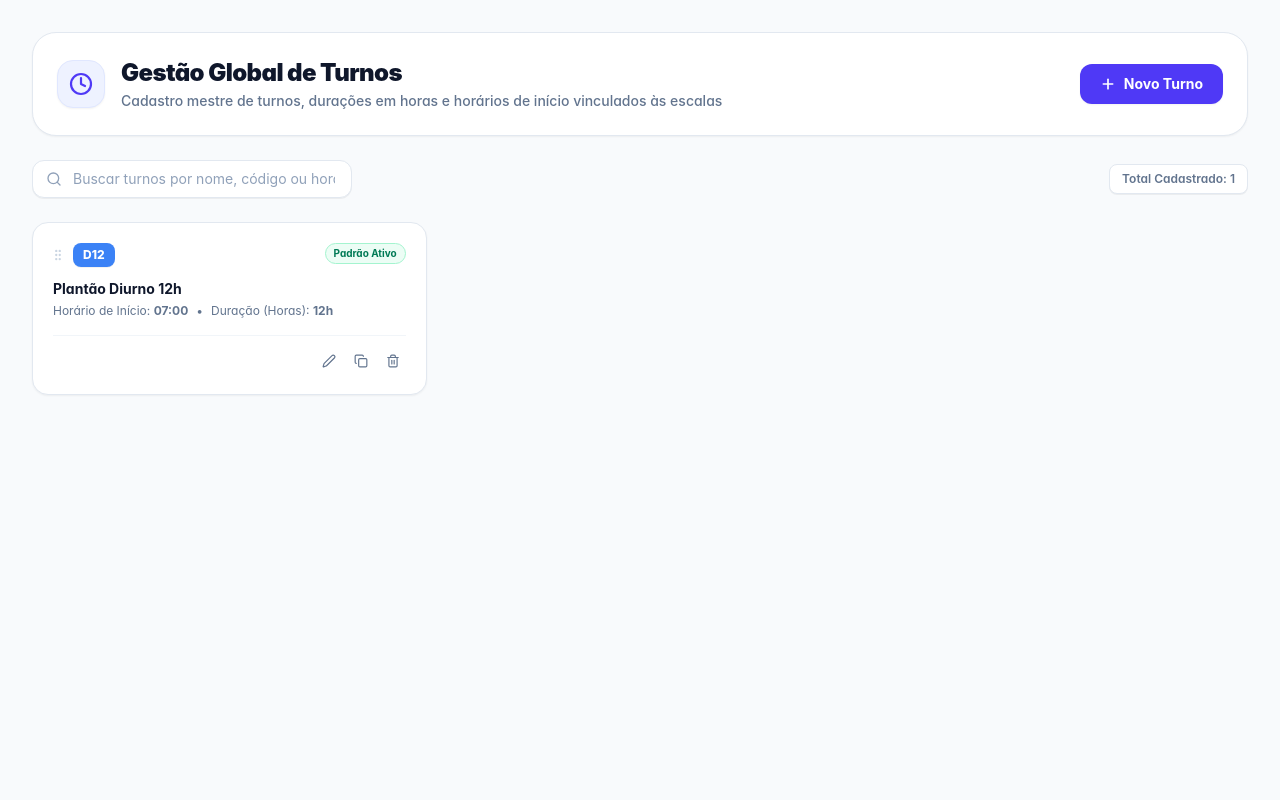
it: ShiftsManagementView › deletes a shift after confirmation
Click the button titled "excluir": [393, 361] box top-left (380, 348), bottom-right (406, 374)
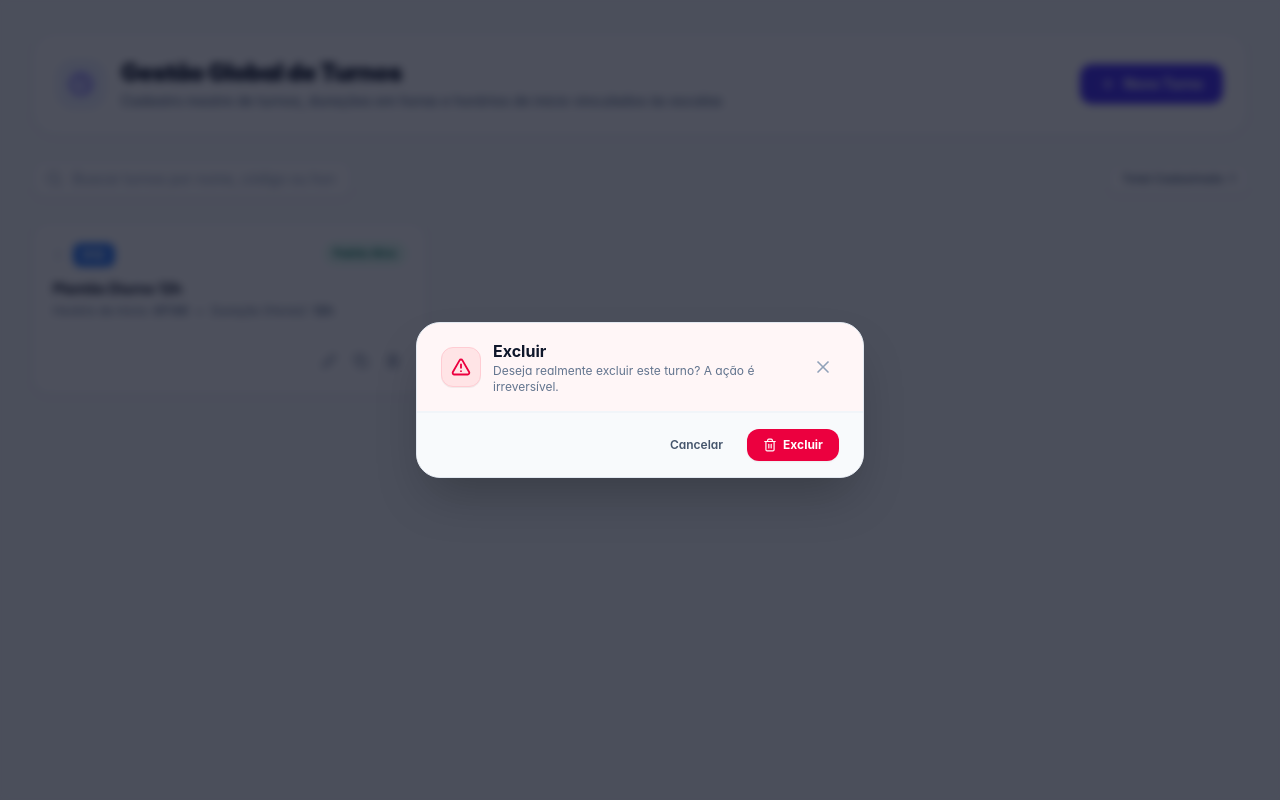
Now the text "Deseja realmente excluir este turno? A ação é irreversível." is shown, box top-left (493, 363), bottom-right (754, 394)
Note: Confirm delete
Click the button "Excluir": [793, 445] box top-left (747, 429), bottom-right (839, 461)
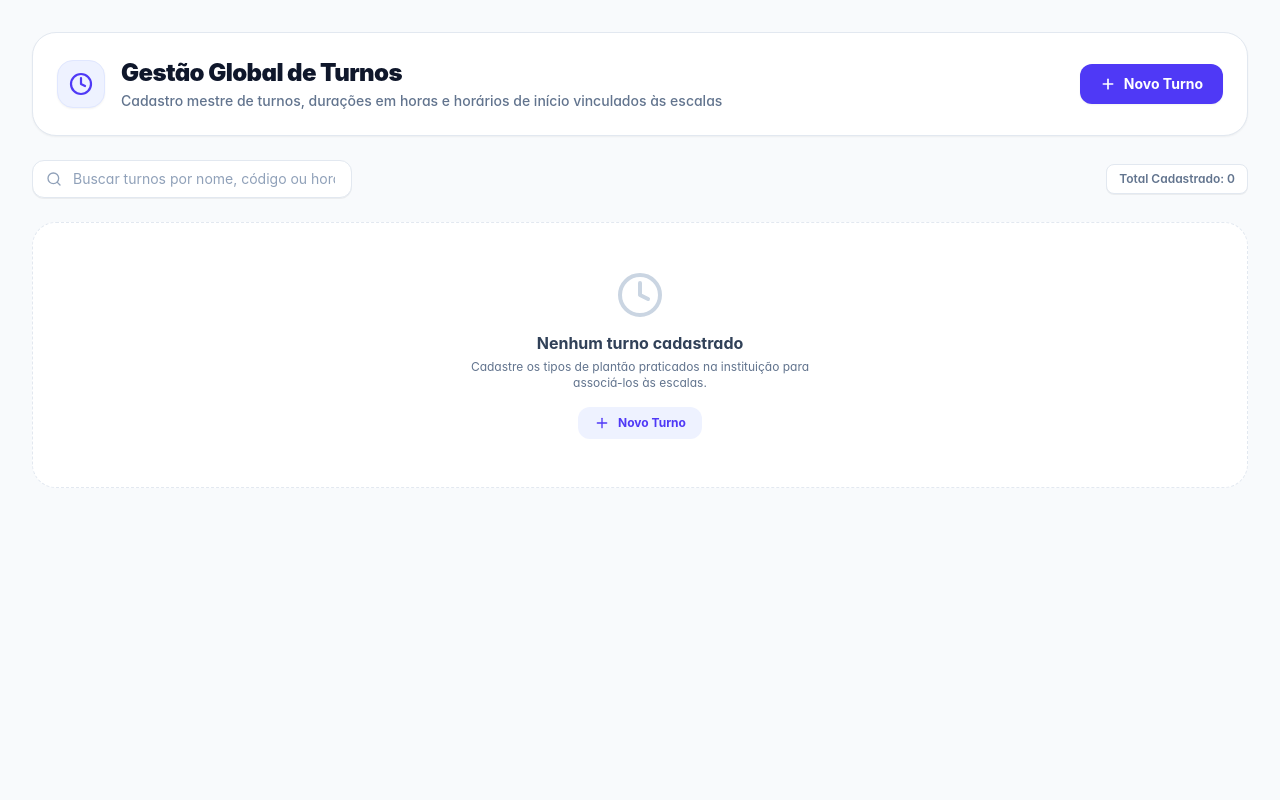
Now the heading "Plantão Diurno 12h" is gone
